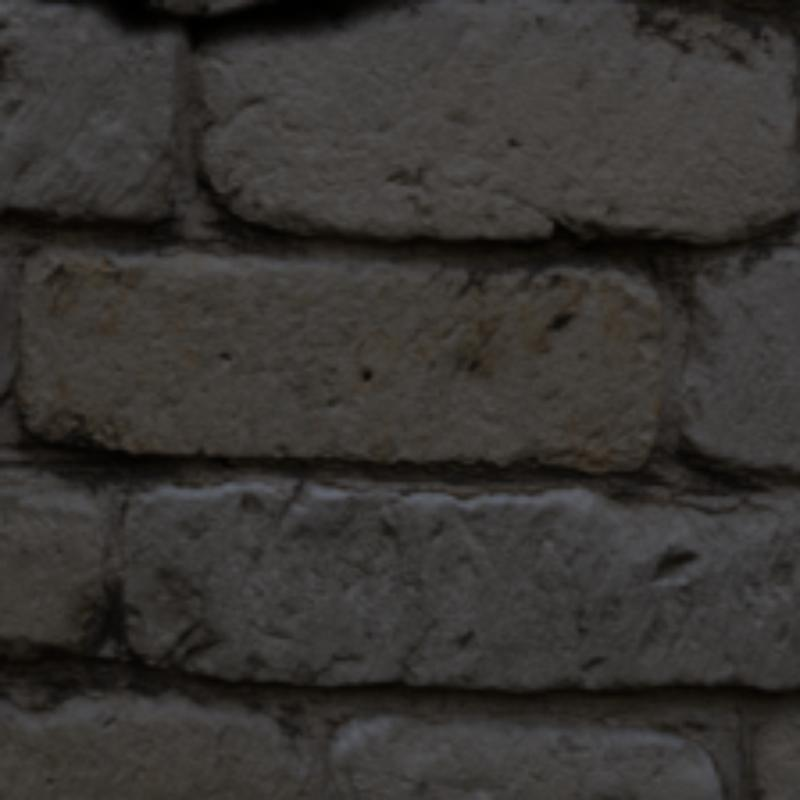pothole: (39, 0, 400, 54)
